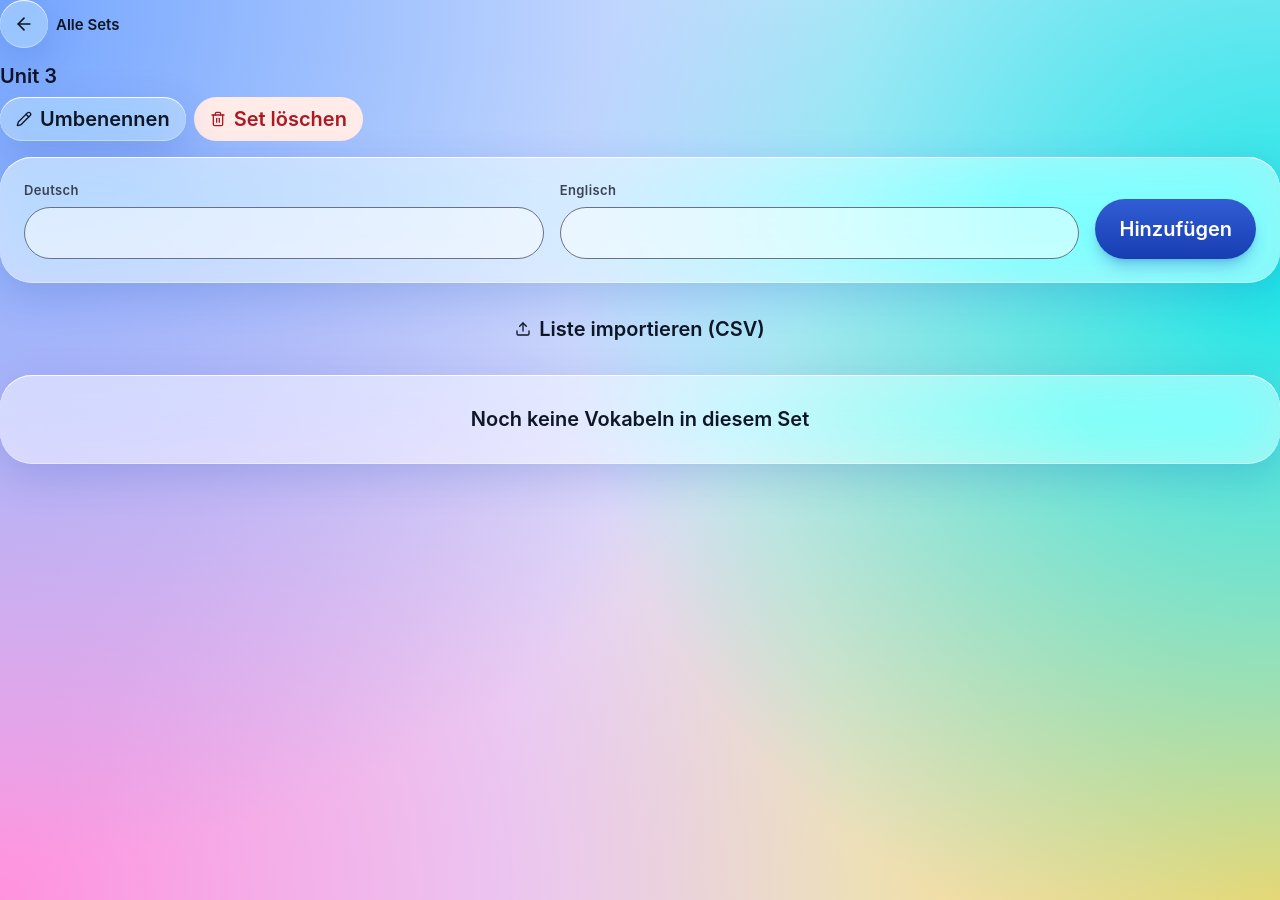
Test case: Set umbenennen › Dialog: Titel, Beschreibung, Feld vorbefüllt und fokussiert
Click the button "Umbenennen": coordinates (93, 119) x1=0 y1=97 x2=186 y2=141
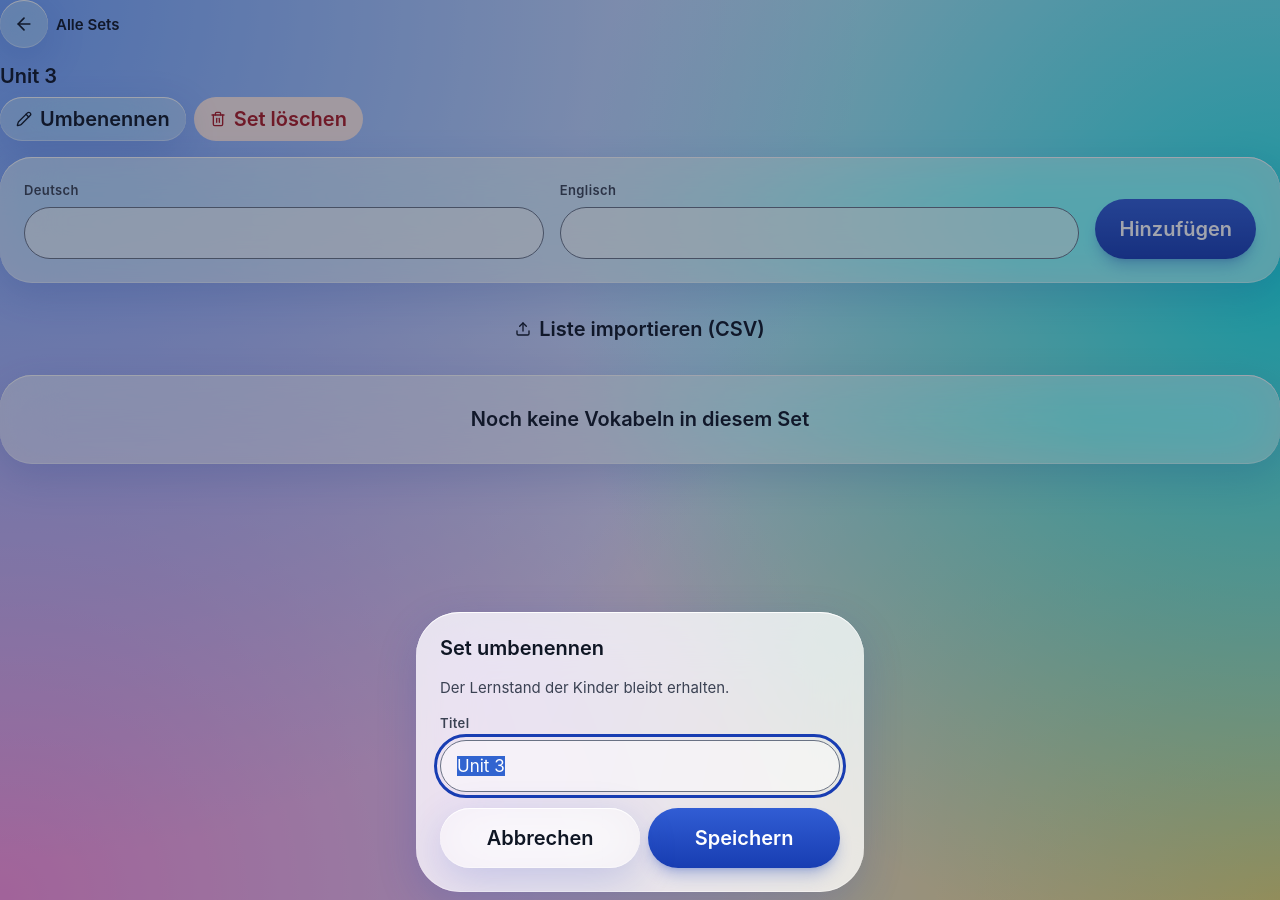
Now the text "Der Lernstand der Kinder bleibt erhalten." is shown, box x1=440 y1=678 x2=729 y2=697
Now the field labelled "Titel" holds "Unit 3", box x1=440 y1=740 x2=840 y2=792
